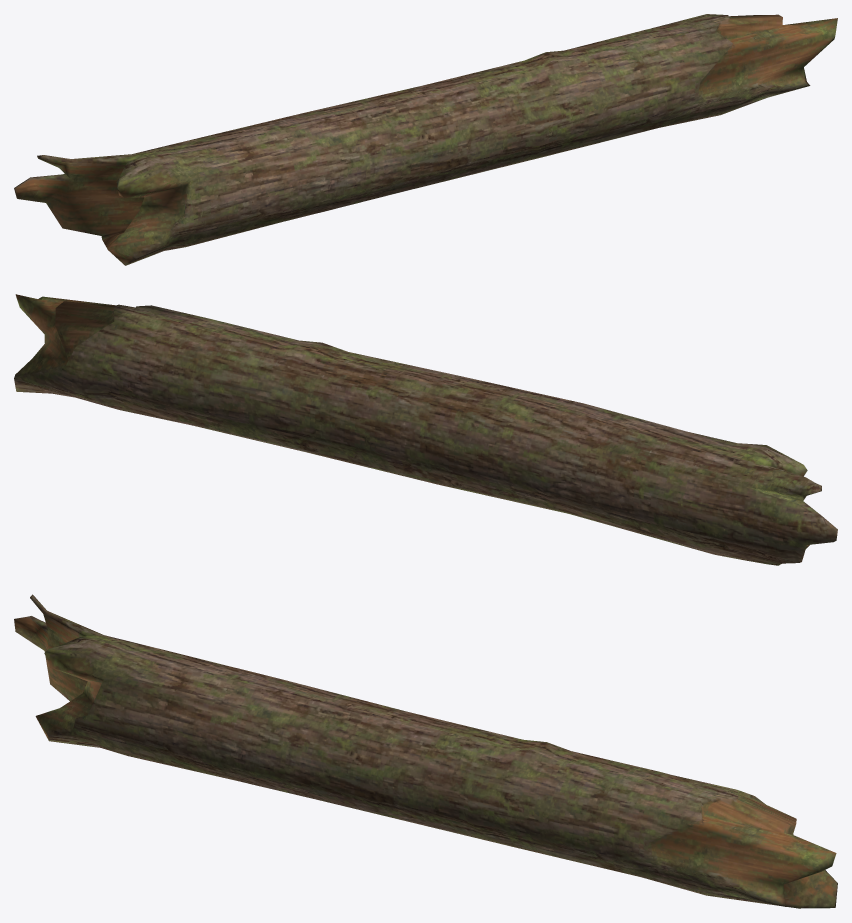
The model's file is TreeBroken7.fbx.
The picture shows the model from 3 angles, top to bottom: view 1: azimuth 30°, elevation 25°; view 2: azimuth 150°, elevation 25°; view 3: azimuth 330°, elevation 25°; orthographic projection. The views are drawn at different scales.
Visible parts, largest first — view 1: SM_cmn_mount_BrokenTree_05a; view 2: SM_cmn_mount_BrokenTree_05a; view 3: SM_cmn_mount_BrokenTree_05a.
Part boxes in pixels (x1,y1,x2,y2): SM_cmn_mount_BrokenTree_05a: [14, 14, 837, 265]; SM_cmn_mount_BrokenTree_05a: [14, 294, 837, 565]; SM_cmn_mount_BrokenTree_05a: [14, 594, 837, 908].
Size of the model in its own units: 637 by 78.94 by 77.01.
